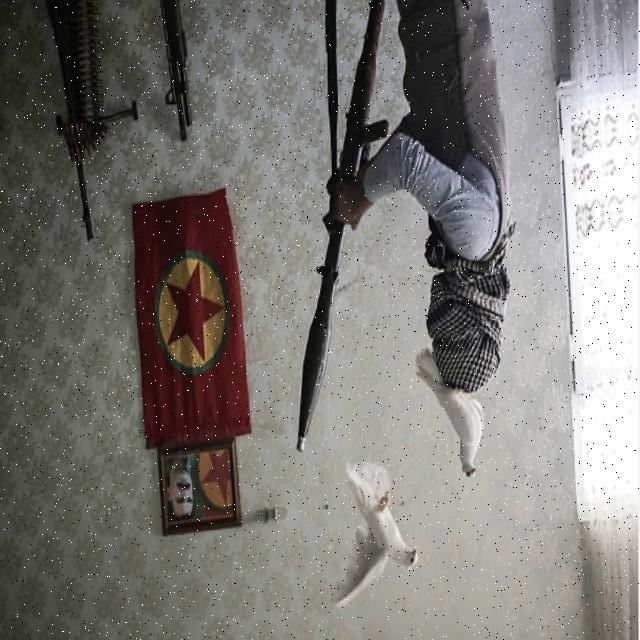bazooka: (291, 11, 408, 470)
